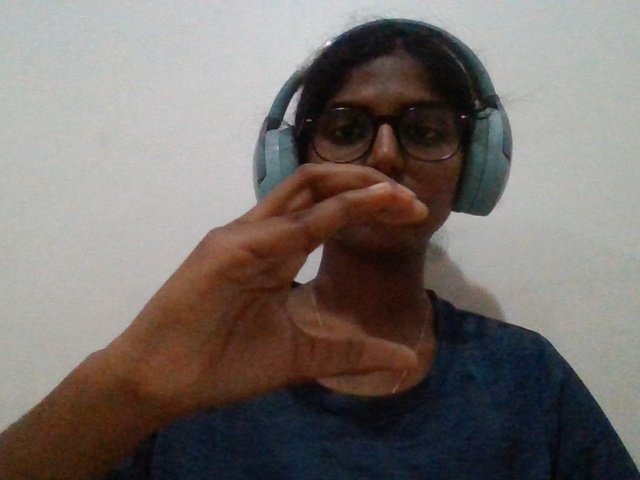C: (76, 138, 451, 442)
